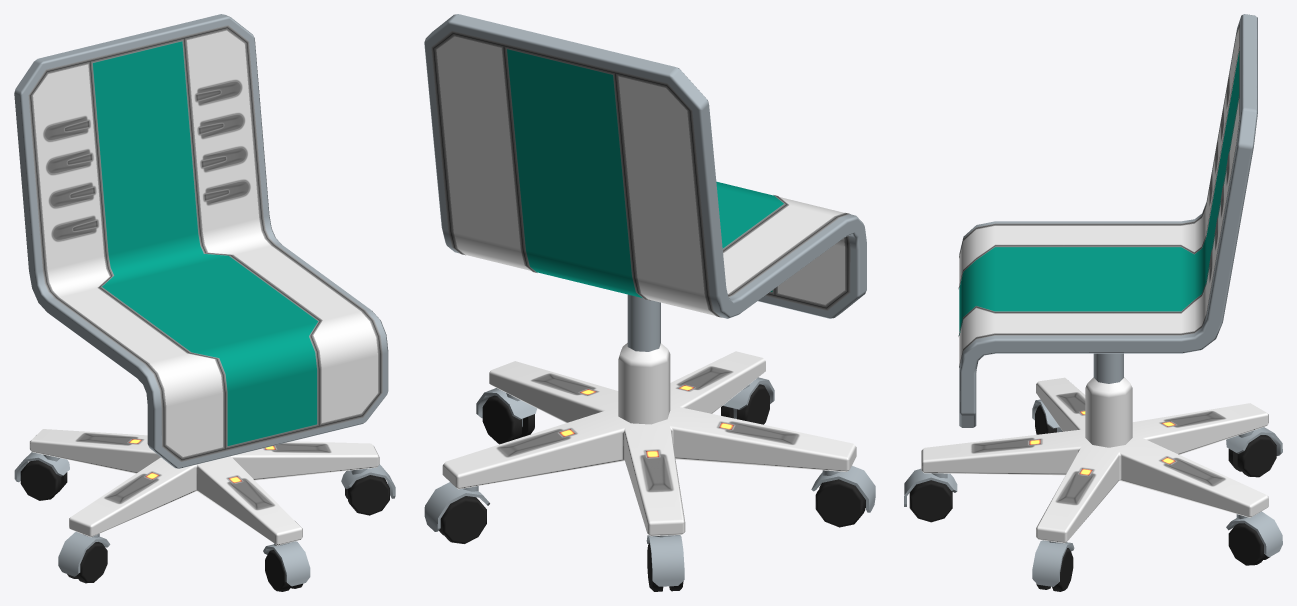
The model's file is bridge-chair.glb.
The picture shows the model from 3 angles, left to right: view 1: azimuth 30°, elevation 25°; view 2: azimuth 150°, elevation 25°; view 3: azimuth 270°, elevation 25°; orthographic projection. The views are drawn at different scales.
Parts seen in each view (by area): view 1: Chair001_Color2_0, Chair001_Color3_0, Chair001_d, Chair001_Color1_0, Chair001_Color4_0; view 2: Chair001_Color2_0, Chair001_Color3_0, Chair001_Color1_0, Chair001_d, Chair001_Color4_0; view 3: Chair001_Color2_0, Chair001_Color1_0, Chair001_Color3_0, Chair001_d, Chair001_Color4_0.
Part boxes in pixels (x1,y1,x2,y2): Chair001_Color2_0: (29, 30, 379, 545); Chair001_Color3_0: (92, 41, 318, 445); Chair001_d: (28, 25, 382, 510); Chair001_Color1_0: (14, 14, 395, 586); Chair001_Color4_0: (20, 460, 389, 591); Chair001_Color2_0: (436, 36, 856, 536); Chair001_Color3_0: (507, 49, 783, 297); Chair001_Color1_0: (424, 14, 875, 586); Chair001_d: (431, 31, 850, 492); Chair001_Color4_0: (439, 384, 865, 591); Chair001_Color2_0: (921, 28, 1268, 543); Chair001_Color1_0: (904, 14, 1282, 586); Chair001_Color3_0: (959, 51, 1239, 335); Chair001_d: (958, 23, 1239, 505); Chair001_Color4_0: (909, 405, 1276, 591).
Size of the model in its own units: 0.8816 by 1.12 by 0.8387.
Materials: 5 (1 with a texture image).
